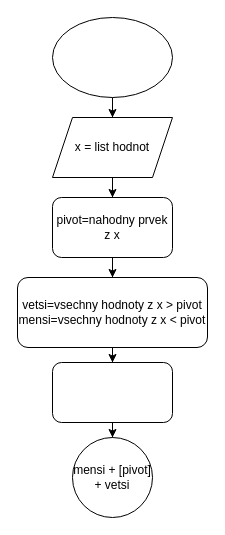
Some shapes in this 225 by 535 pixel diagram are drawn without their labels. The shapes that lost their labels are listed below. From the top down, each one's centre as x and y in pixels, then its label:
At (x=112, y=57): "quick sart".
At (x=112, y=392): "QuickSort(vetsi) QuickSort(mensi)".
